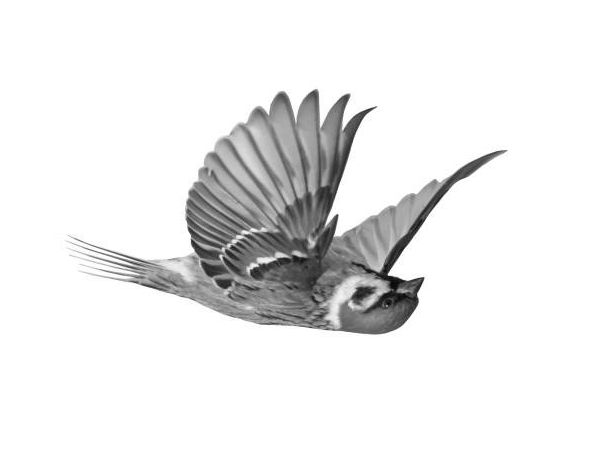Bird: (59, 86, 506, 340)
